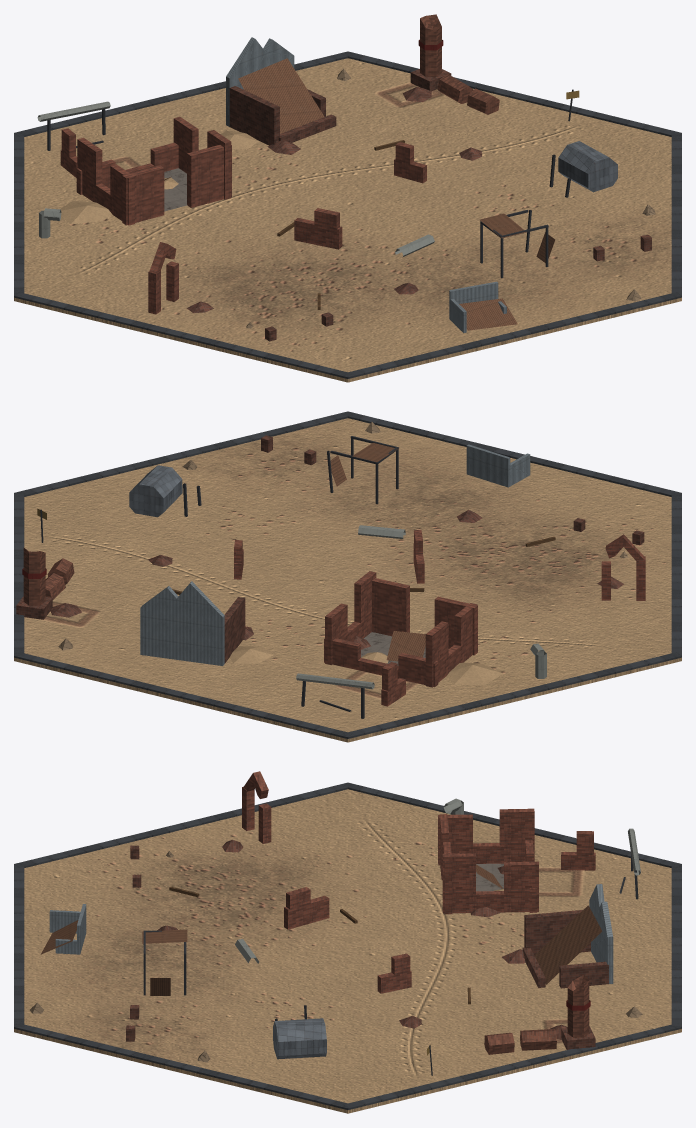
Rendered from WasteRuins.glb.
The picture shows the model from 3 angles, top to bottom: view 1: azimuth 30°, elevation 25°; view 2: azimuth 150°, elevation 25°; view 3: azimuth 270°, elevation 25°; orthographic projection.
Visible parts, largest first — view 1: WasteRuins_Ground, WasteRuins_Brick, WasteRuins_GroundTrim, WasteRuins_BrickDark, WasteRuins_Corrugated, WasteRuins_Siding, WasteRuins_Stack, WasteRuins_Tank, WasteRuins_Drift, WasteRuins_Duct, WasteRuins_Rust, WasteRuins_Concrete; view 2: WasteRuins_Ground, WasteRuins_GroundTrim, WasteRuins_Brick, WasteRuins_Siding, WasteRuins_BrickDark, WasteRuins_Tank, WasteRuins_Stack, WasteRuins_Drift, WasteRuins_Corrugated, WasteRuins_Rust, WasteRuins_Duct, WasteRuins_Concrete; view 3: WasteRuins_Ground, WasteRuins_Brick, WasteRuins_GroundTrim, WasteRuins_BrickDark, WasteRuins_Corrugated, WasteRuins_Siding, WasteRuins_Stack, WasteRuins_Tank, WasteRuins_Duct, WasteRuins_Rust, WasteRuins_Concrete.
Boxes of the visible parts, x1,y1,x2,y2 form: WasteRuins_Ground: [14, 58, 681, 382]; WasteRuins_Brick: [60, 116, 426, 314]; WasteRuins_GroundTrim: [14, 51, 681, 378]; WasteRuins_BrickDark: [107, 69, 651, 341]; WasteRuins_Corrugated: [164, 58, 555, 330]; WasteRuins_Siding: [226, 37, 506, 332]; WasteRuins_Stack: [420, 14, 499, 114]; WasteRuins_Tank: [558, 141, 617, 192]; WasteRuins_Drift: [60, 130, 258, 224]; WasteRuins_Duct: [37, 101, 434, 256]; WasteRuins_Rust: [47, 89, 573, 278]; WasteRuins_Concrete: [164, 168, 187, 211]; WasteRuins_Ground: [14, 418, 681, 742]; WasteRuins_GroundTrim: [14, 411, 681, 738]; WasteRuins_Brick: [234, 530, 645, 706]; WasteRuins_Siding: [140, 444, 530, 665]; WasteRuins_BrickDark: [16, 435, 644, 663]; WasteRuins_Tank: [129, 465, 182, 517]; WasteRuins_Stack: [23, 547, 74, 605]; WasteRuins_Drift: [229, 646, 503, 685]; WasteRuins_Corrugated: [330, 443, 425, 661]; WasteRuins_Rust: [40, 436, 398, 718]; WasteRuins_Duct: [296, 525, 546, 689]; WasteRuins_Concrete: [361, 632, 425, 665]; WasteRuins_Ground: [14, 789, 681, 1113]; WasteRuins_Brick: [242, 771, 595, 993]; WasteRuins_GroundTrim: [14, 782, 681, 1109]; WasteRuins_BrickDark: [126, 840, 608, 1049]; WasteRuins_Corrugated: [40, 864, 602, 995]; WasteRuins_Siding: [49, 884, 613, 983]; WasteRuins_Stack: [484, 975, 589, 1054]; WasteRuins_Tank: [273, 1018, 326, 1059]; WasteRuins_Duct: [235, 798, 640, 963]; WasteRuins_Rust: [143, 854, 638, 1075]; WasteRuins_Concrete: [476, 863, 503, 891].
Size of the model in its own units: 12 by 1.42 by 10.39.
16 materials, 16 textured.
